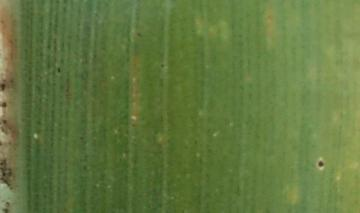tarspot: (315, 154, 328, 171), (54, 63, 64, 76), (134, 31, 144, 39), (158, 61, 167, 69)
